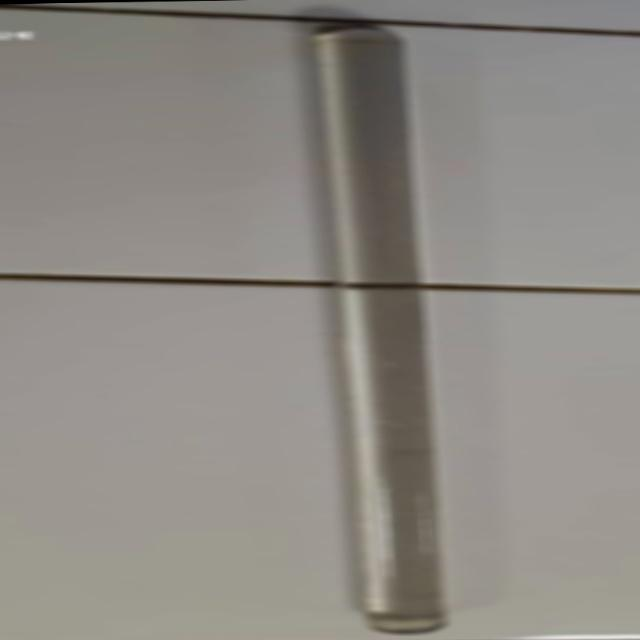Stirrer: (224, 12, 526, 638)
